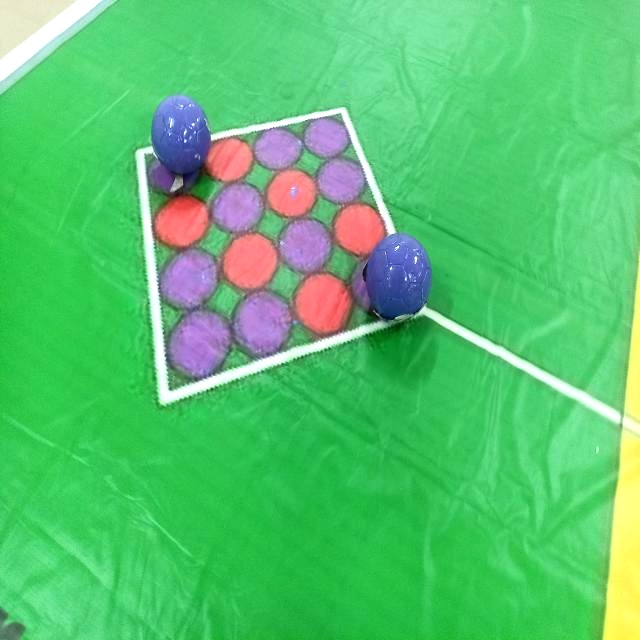purple_ball: (365, 230, 434, 322), (149, 92, 212, 177)
